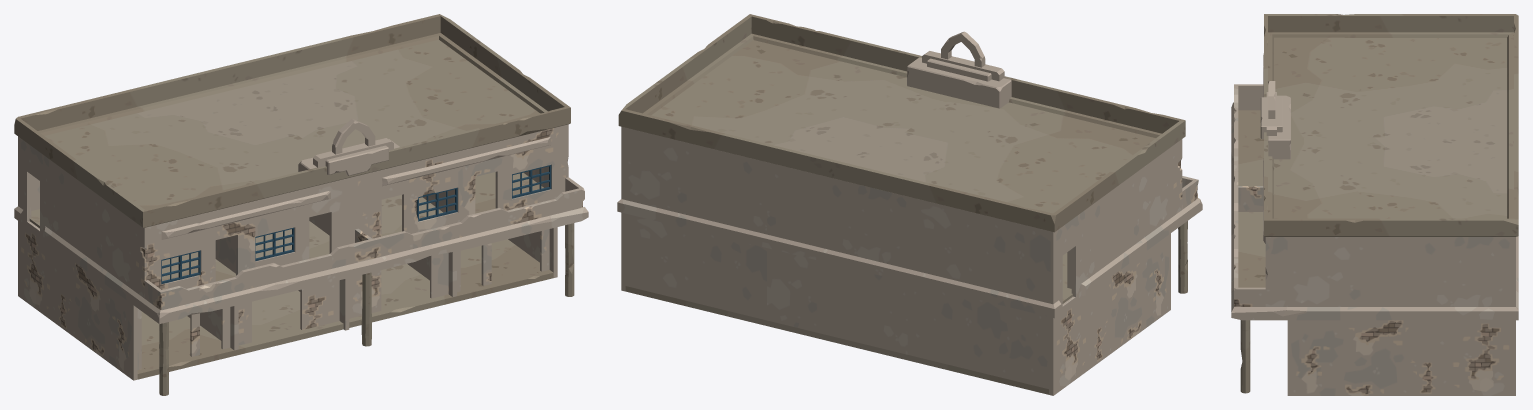
Rendered from SM_Bld_Shop_08.glb.
3 views of the same model, side by side, from view 1: azimuth 30°, elevation 25°; view 2: azimuth 150°, elevation 25°; view 3: azimuth 270°, elevation 25° (orthographic). The views are drawn at different scales.
Parts seen in each view (by area): view 1: SM_Bld_Shop_08; view 2: SM_Bld_Shop_08; view 3: SM_Bld_Shop_08.
Boxes of the visible parts, box(x1,y1,x2,y2) form: SM_Bld_Shop_08: box(14, 14, 588, 395); SM_Bld_Shop_08: box(617, 14, 1202, 395); SM_Bld_Shop_08: box(1231, 14, 1518, 395).
Size of the model in its own units: 21.47 by 10.26 by 12.58.
1 material, 1 textured.
